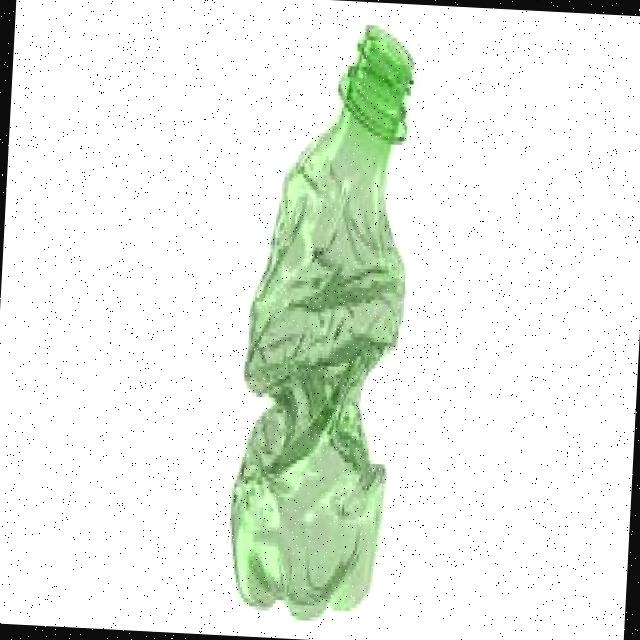bottle: (217, 8, 427, 623)
